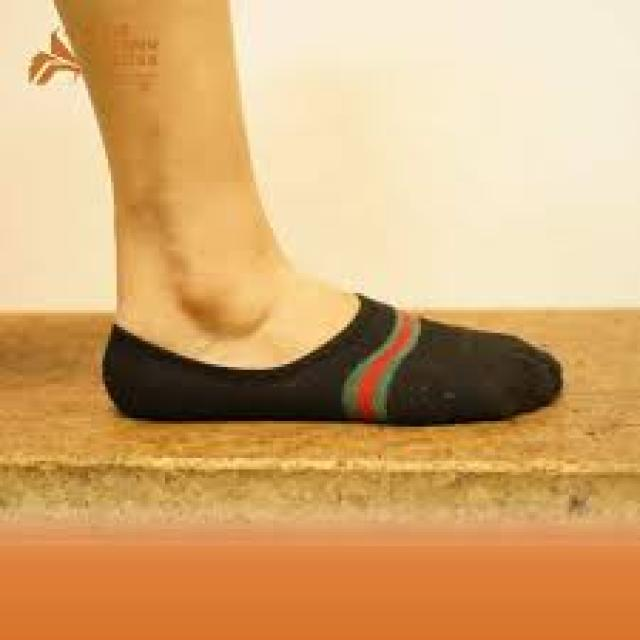sock: (26, 0, 563, 424)
